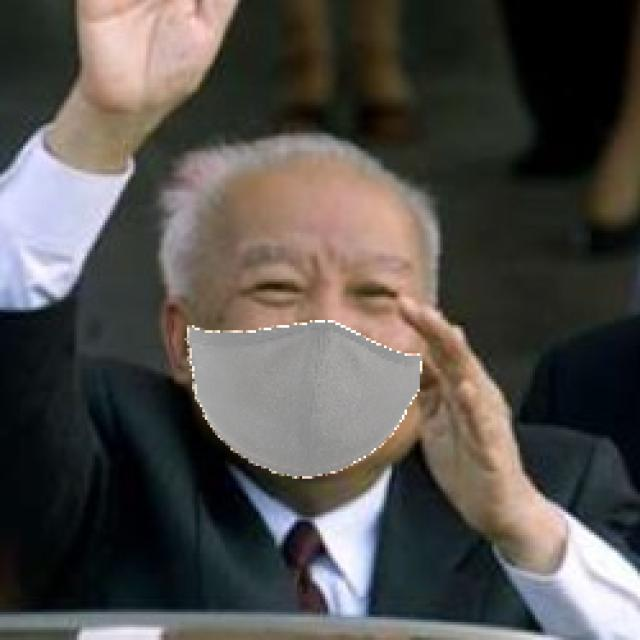mask: (142, 263, 430, 488)
